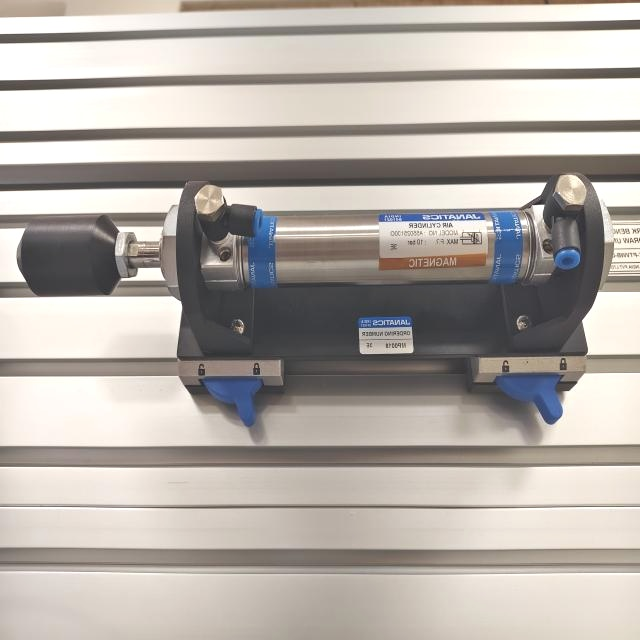double acting pneumatic cylinder: (19, 168, 615, 432)
push button: (17, 170, 615, 427)
